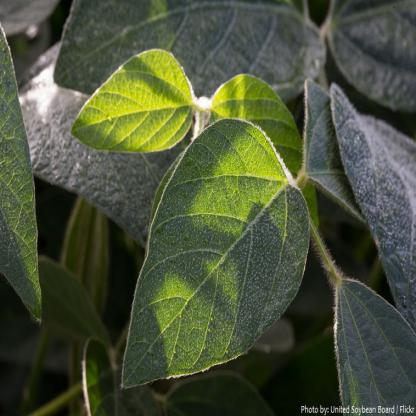soybean leaf: (115, 115, 311, 396), (70, 47, 198, 158), (208, 63, 307, 202)
